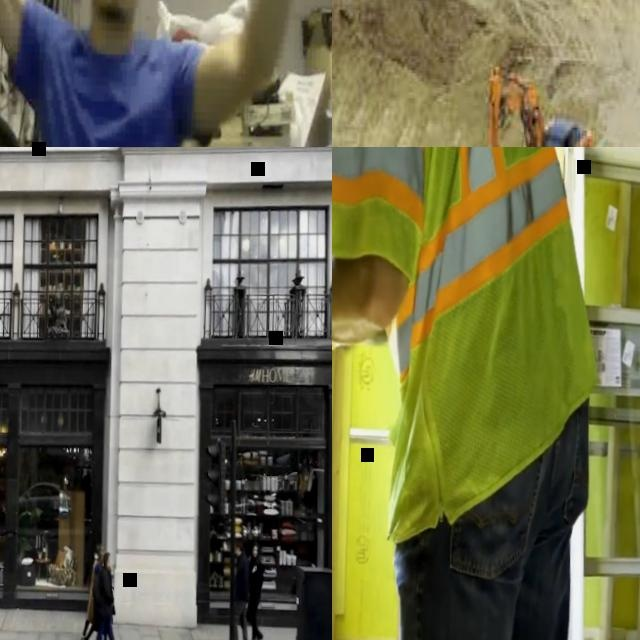NO-Hardhat: (94, 541, 103, 553), (103, 550, 110, 561), (233, 541, 240, 550), (251, 541, 258, 549), (98, 552, 103, 562)
NO-Mask: (93, 0, 137, 21), (106, 558, 110, 569), (234, 550, 239, 557), (252, 553, 256, 558)
NO-Safety Vest: (34, 42, 184, 147), (95, 571, 110, 622), (87, 557, 98, 609), (92, 568, 100, 615)
Person: (332, 147, 603, 640), (0, 0, 332, 147), (92, 551, 125, 640), (80, 552, 113, 640), (78, 540, 106, 640), (227, 539, 252, 640), (243, 538, 265, 640)
Safety Vest: (332, 147, 612, 541)
machinery: (478, 60, 596, 147)
